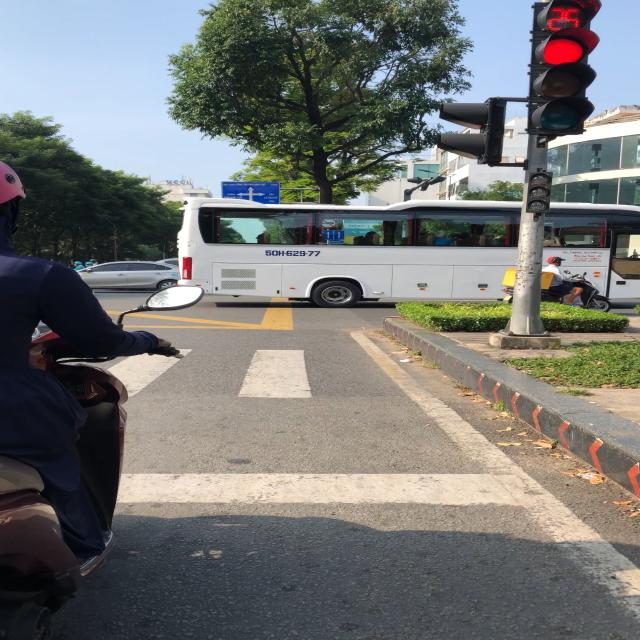Bien bao cam xe so-mi ro-mooc: (316, 218, 338, 229)
